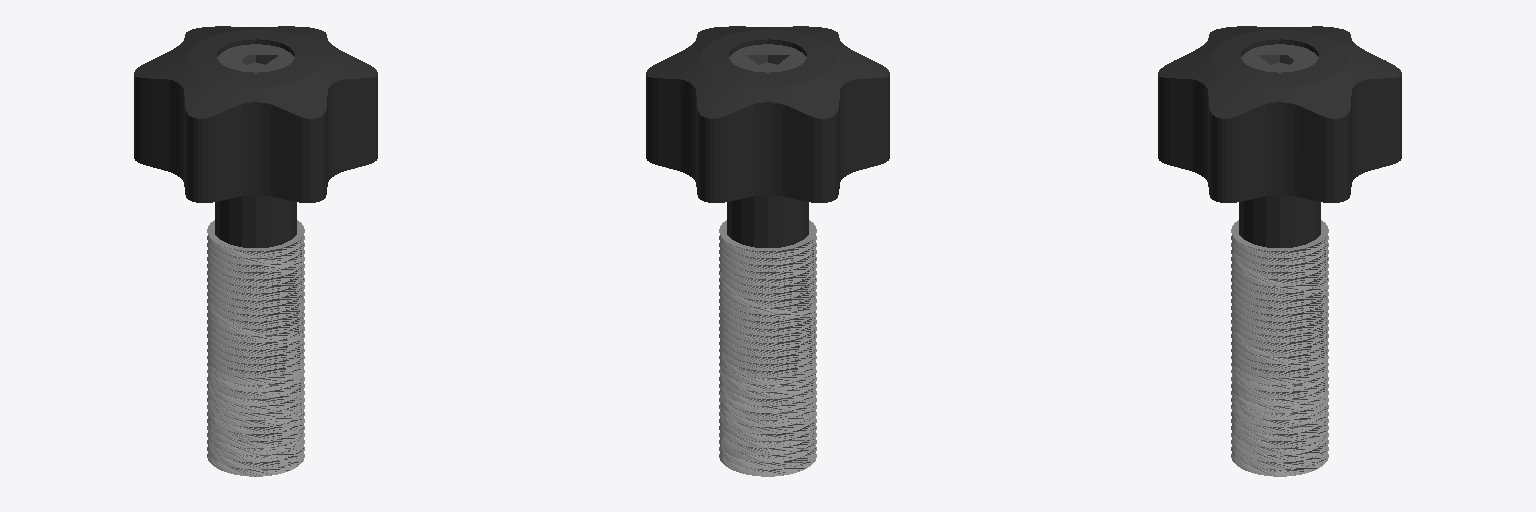
The model's file is press_screw_top.obj.
The picture shows the model from 3 angles: view 1: azimuth 30°, elevation 25°; view 2: azimuth 150°, elevation 25°; view 3: azimuth 270°, elevation 25°; orthographic projection.
Visible parts, largest first — view 1: press_screw_top, press_screw_top_02, press_screw_top_01; view 2: press_screw_top, press_screw_top_02, press_screw_top_01; view 3: press_screw_top, press_screw_top_02, press_screw_top_01.
Part boxes in pixels (bbox=[...]): press_screw_top: bbox=[134, 26, 377, 247]; press_screw_top_02: bbox=[207, 220, 304, 476]; press_screw_top_01: bbox=[217, 44, 294, 72]; press_screw_top: bbox=[646, 26, 889, 247]; press_screw_top_02: bbox=[719, 220, 816, 476]; press_screw_top_01: bbox=[729, 44, 806, 72]; press_screw_top: bbox=[1158, 26, 1401, 247]; press_screw_top_02: bbox=[1231, 220, 1328, 476]; press_screw_top_01: bbox=[1241, 44, 1318, 72].
Bounding box in the file's own units: 36.6 × 74.82 × 41.29.